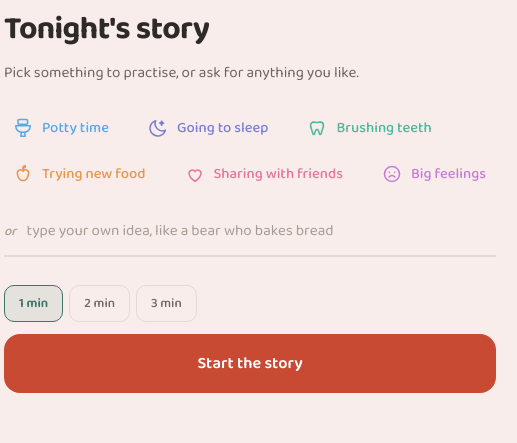
Scenario: StorySetupPanel › shows a validation note when starting with no theme and no prompt
The image size is (517, 443).
Click the button "Start the story" at (250, 364), box [4, 334, 496, 393]
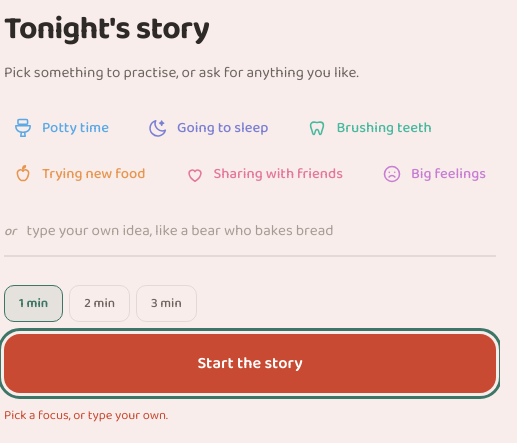
Expected: the text "Pick a focus, or type your own." is shown, [4, 405, 168, 426]
